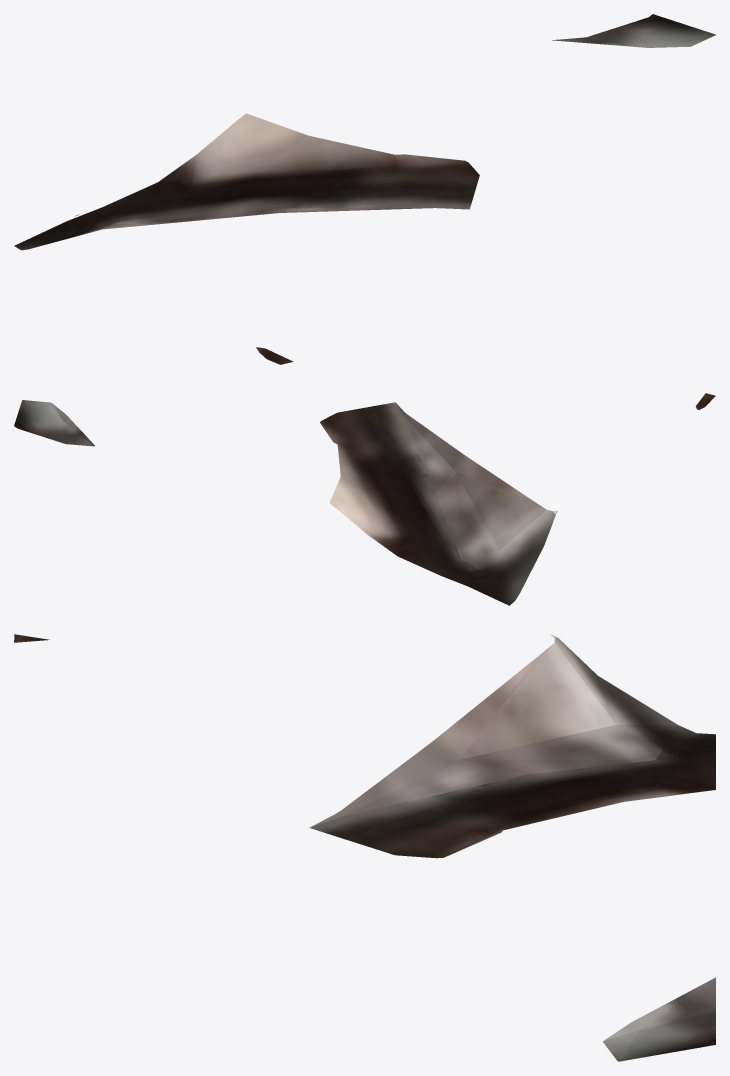
3 views of the same model, one above another, from view 1: azimuth 30°, elevation 25°; view 2: azimuth 150°, elevation 25°; view 3: azimuth 270°, elevation 25° (orthographic). The views are drawn at different scales.
Size of the model in its own units: 0.359 by 0.0392 by 0.2492.
1 material, 1 textured.
